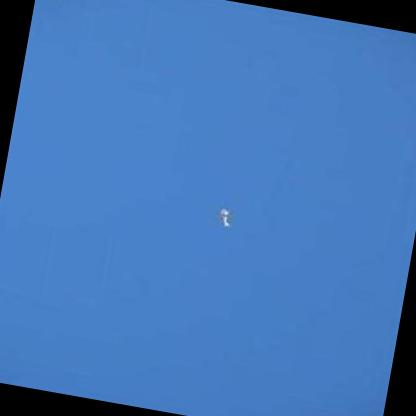plane: (211, 203, 234, 235)
